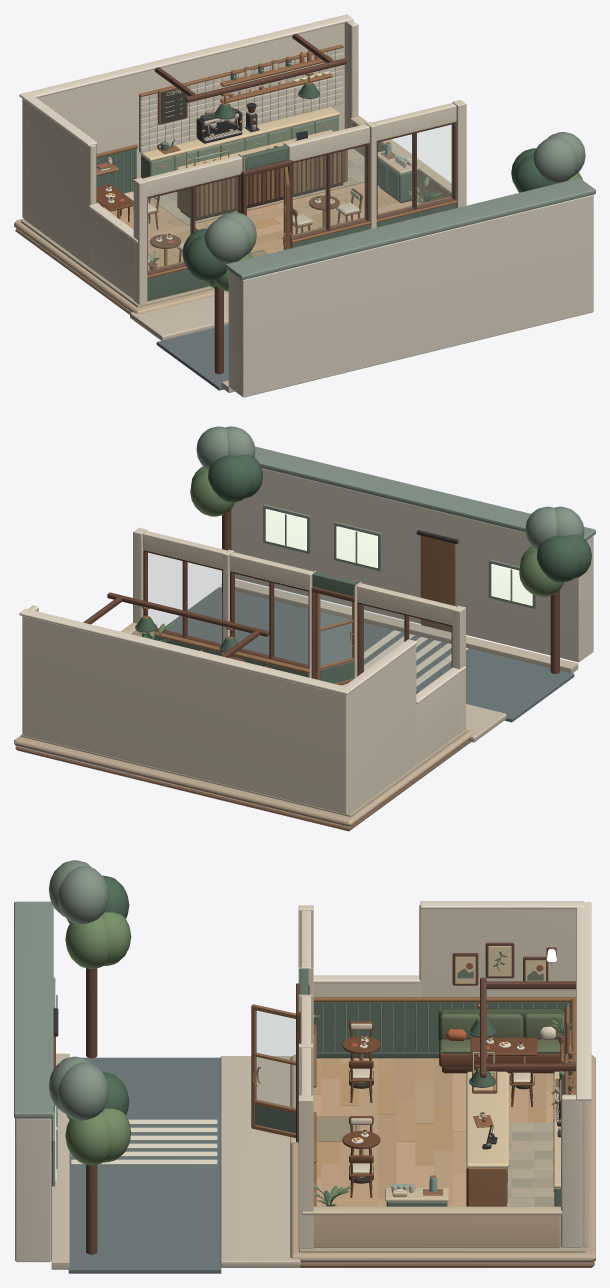
The model's file is cafe.glb.
3 renders of one model, top to bottom at view 1: azimuth 30°, elevation 25°; view 2: azimuth 150°, elevation 25°; view 3: azimuth 270°, elevation 25°, orthographic. The views are drawn at different scales.
Visible parts, largest first — view 1: Simplified street view · Window view · house across the stre, Cafe room shell · Cafe room · warm cream plaster, Street-facing door and glazing · Cafe window · subtle sage t, Street-facing door and glazing · Cafe room · warm cream plas, Simplified street view · Window view · pale eucalyptus frame, Street-facing door and glazing · Cafe room · dark walnut, Cafe room shell · Cafe room · bone white, Simplified street view · Cafe room · raised sage moulding, Espresso bar and back counter · Bar | warmly oiled slats, Street-facing door and glazing · Cafe room · match storefron, Simplified street view · Window view · pale pavement, Simplified street view · Cafe room · dark green leaves (+31 smaller); view 2: Cafe room shell · Cafe room · warm cream plaster, Simplified street view · Window view · house across the stre, Street-facing door and glazing · Cafe window · subtle sage t, Simplified street view · Window view · distant road asphalt, Street-facing door and glazing · Cafe room · warm cream plas, Simplified street view · Window view · pale eucalyptus frame, Cafe room shell · Cafe plinth · creamy stone, Simplified street view · Window view · pale pavement, Street-facing door and glazing · Cafe room · dark walnut, Simplified street view · Cafe room · dark green leaves, Cafe room shell · Cafe room · bone white, Simplified street view · Cafe window · little warm reflected (+12 smaller); view 3: Simplified street view · Window view · distant road asphalt, Simplified street view · Window view · pale pavement, Cafe room shell · Cafe room · warm cream plaster, Simplified street view · Window view · pale eucalyptus frame, Cafe room shell · Cafe room · toasted plaster accents, Joinery and decor · Cafe room · match storefront eucalyptus, Cafe room shell · Cafe plinth · creamy stone, Simplified street view · Cafe room · raised sage moulding, Simplified street view · Cafe room · silvery green leaves, Cafe room shell · Cafe room · bone white, Simplified street view · Window view · house across the stre, Street-facing door and glazing · Cafe room · warm cream plas (+35 smaller).
Part boxes in pixels (x1,y1,x2,y2): Simplified street view · Window view · house across the stre: (228,195,593,397); Cafe room shell · Cafe room · warm cream plaster: (22,19,358,299); Street-facing door and glazing · Cafe window · subtle sage t: (148,125,452,273); Street-facing door and glazing · Cafe room · warm cream plas: (133,99,466,304); Simplified street view · Window view · pale eucalyptus frame: (226,178,595,280); Street-facing door and glazing · Cafe room · dark walnut: (147,122,456,275); Cafe room shell · Cafe room · bone white: (19,14,353,242); Simplified street view · Cafe room · raised sage moulding: (204,132,585,264); Espresso bar and back counter · Bar | warmly oiled slats: (158,56,347,216); Street-facing door and glazing · Cafe room · match storefron: (147,145,456,300); Simplified street view · Window view · pale pavement: (130,292,234,392); Simplified street view · Cafe room · dark green leaves: (182,148,554,281); Cafe room shell · Cafe room · warm cream plaster: (22,605,460,814); Simplified street view · Window view · house across the stre: (231,468,593,662); Street-facing door and glazing · Cafe window · subtle sage t: (148,553,451,691); Simplified street view · Window view · distant road asphalt: (163,587,574,722); Street-facing door and glazing · Cafe room · warm cream plas: (133,527,465,732); Simplified street view · Window view · pale eucalyptus frame: (254,446,595,609); Cafe room shell · Cafe plinth · creamy stone: (14,729,473,827); Simplified street view · Window view · pale pavement: (221,579,578,742); Street-facing door and glazing · Cafe room · dark walnut: (143,550,452,693); Simplified street view · Cafe room · dark green leaves: (208,454,591,582); Cafe room shell · Cafe room · bone white: (19,608,465,703); Simplified street view · Cafe window · little warm reflected: (265,509,532,605); Simplified street view · Window view · distant road asphalt: (68,1057,221,1273); Simplified street view · Window view · pale pavement: (51,1053,300,1269); Cafe room shell · Cafe room · warm cream plaster: (313,905,588,1248); Simplified street view · Window view · pale eucalyptus frame: (14,901,57,1186); Cafe room shell · Cafe room · toasted plaster accents: (313,1215,560,1247); Joinery and decor · Cafe room · match storefront eucalyptus: (313,1002,571,1206); Cafe room shell · Cafe plinth · creamy stone: (290,1054,595,1263); Simplified street view · Cafe room · raised sage moulding: (48,860,108,1120); Simplified street view · Cafe room · silvery green leaves: (65,912,131,1165); Cafe room shell · Cafe room · bone white: (313,901,591,1100); Simplified street view · Window view · house across the stre: (15,1118,51,1262); Street-facing door and glazing · Cafe room · warm cream plas: (298,905,313,1248).
Size of the model in its own units: 9.55 by 3.9 by 9.96.
